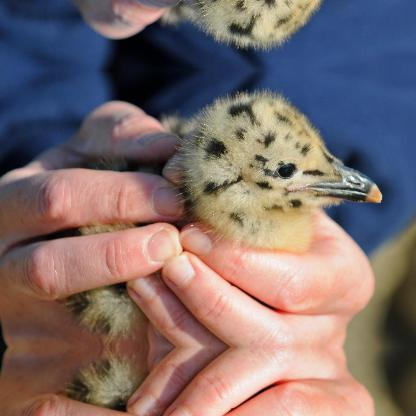Bird: (58, 82, 384, 345), (58, 346, 384, 415), (58, 0, 384, 56)
